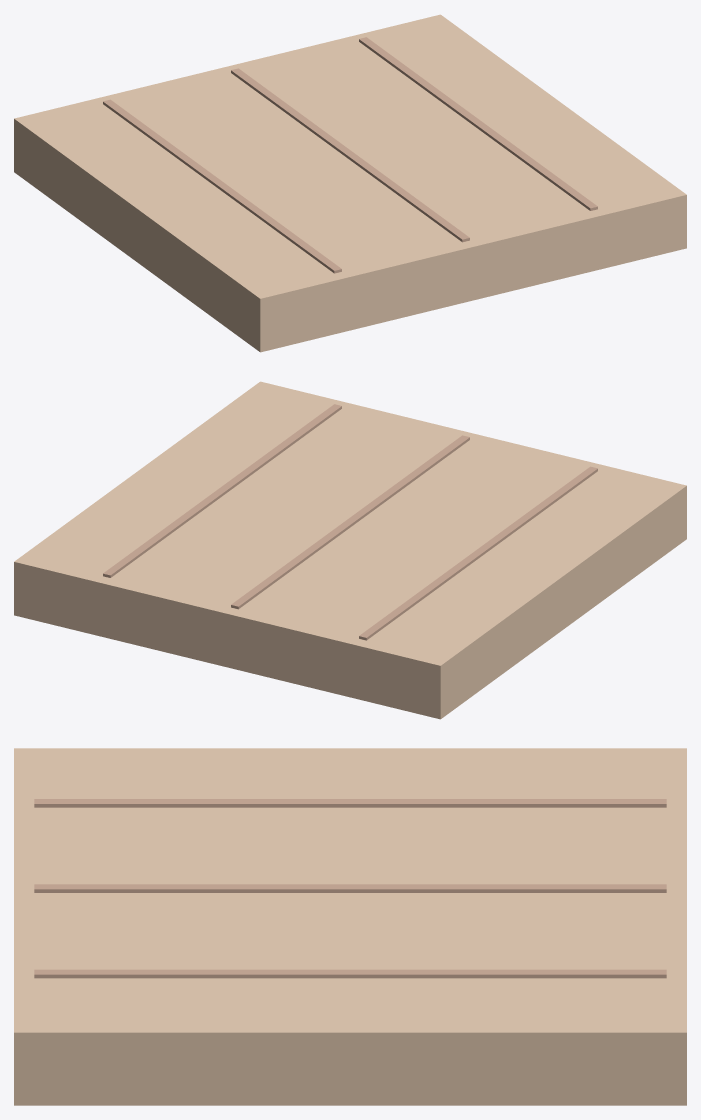
File: floor-wood.glb
The picture shows the model from 3 angles, top to bottom: view 1: azimuth 30°, elevation 25°; view 2: azimuth 150°, elevation 25°; view 3: azimuth 270°, elevation 25°; orthographic projection. The views are drawn at different scales.
Parts seen in each view (by area): view 1: base, seam (×3); view 2: base, seam (×3); view 3: base, seam (×3).
Part boxes in pixels (x1,y1,x2,y2): base: (14,14,686,352); seam (×3): (103,37,597,273); base: (14,381,686,719); seam (×3): (103,404,597,640); base: (14,748,686,1105); seam (×3): (34,799,666,978).
Size of the model in its own units: 1 by 0.126 by 1.
